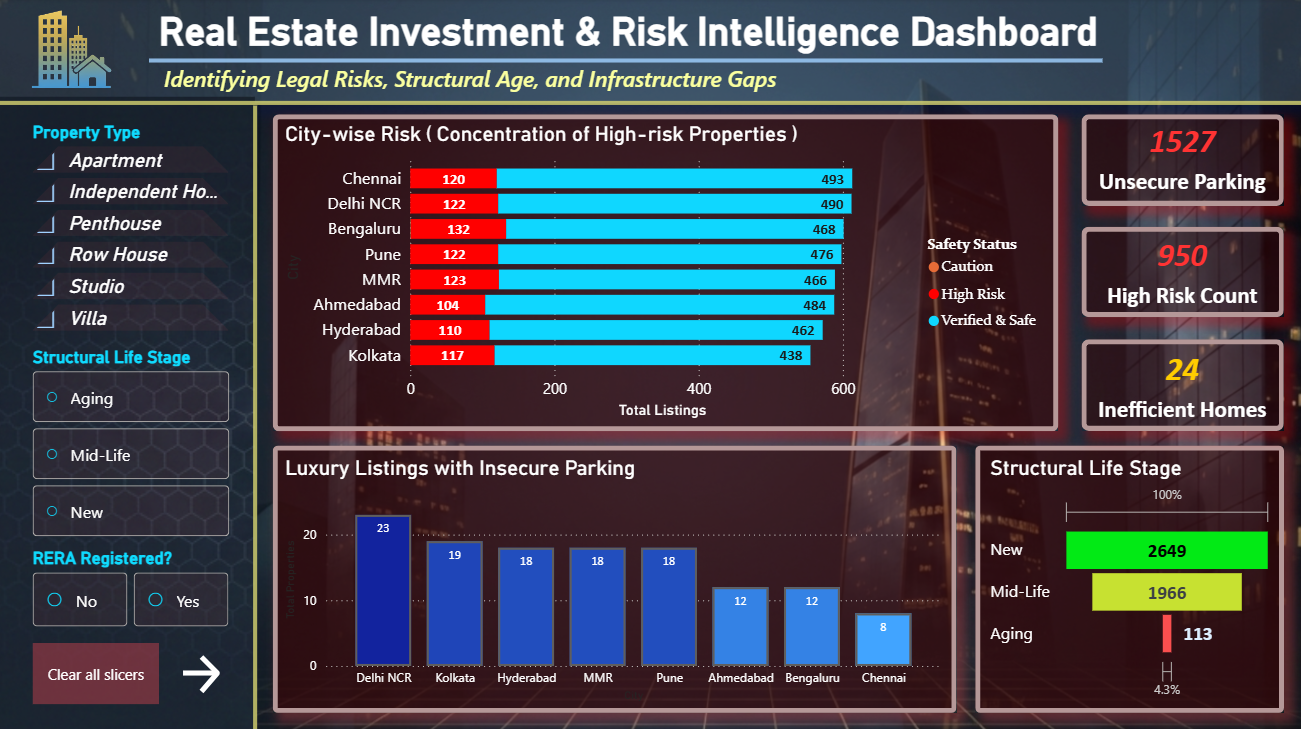

The page's visual inventory and layout, read from the dashboard file:
{"tool":"powerbi","page":{"name":"Risk & Lifecycle","canvas":[1280,720],"ordinal":1},"visuals":[{"type":"shape","box":[0,0,1280,103.2],"z":0},{"type":"image","box":[13.5,9.8,115.3,81],"z":1000},{"type":"textbox","box":[152.5,5,1063,56],"z":2000},{"type":"shape","box":[1062.5,225,198.8,88.8],"z":3000},{"type":"image","box":[0,96.9,251.5,623.3],"z":4000},{"type":"shape","box":[236.9,105.4,29.2,615],"z":5000},{"type":"shape","box":[268.8,113.8,771.2,311.2],"z":6000},{"type":"actionButton","box":[33.1,633.1,123.9,60.1],"z":7000},{"type":"shape","box":[268.7,439.3,671.2,262.6],"z":8000},{"type":"columnChart","title":"Luxury Listings with Insecure Parking","fields":{"Category":["estate processed_property_data.city"],"Y":["CountNonNull(estate processed_property_data.listingid)"]},"box":[276.1,449.1,654,246.6],"z":9000},{"type":"shape","box":[958.3,439.3,303.1,262.6],"z":10000},{"type":"shape","box":[1062.5,113.8,198.8,90],"z":11000},{"type":"shape","box":[1062.5,335,198.8,90],"z":12000},{"type":"card","fields":{"Values":["CountNonNull(estate processed_property_data.listingid)"]},"box":[1072.5,330,178.8,95],"z":13000},{"type":"advancedSlicerVisual","fields":{"Values":["estate processed_property_data.structural_life_stage"]},"box":[28.2,342.3,203.7,192.6],"z":14000},{"type":"actionButton","box":[174.2,640.5,57.7,46.6],"z":15000},{"type":"shape","box":[0,96.8,1280,12.1],"z":16000},{"type":"textbox","box":[157.5,58.8,630,38.8],"z":17000},{"type":"shape","box":[147.2,55.2,936.2,12.3],"z":18000},{"type":"funnel","title":"Structural Life Stage","fields":{"Y":["CountNonNull(estate processed_property_data.listingid)"],"Category":["estate processed_property_data.structural_life_stage"]},"box":[967.5,448.8,287.5,245],"z":22000},{"type":"card","fields":{"Values":["CountNonNull(estate processed_property_data.listingid)"]},"box":[1072.5,218.8,178.8,93.8],"z":23000},{"type":"card","fields":{"Values":["CountNonNull(estate processed_property_data.listingid)"]},"box":[1072.5,106.2,178.8,93.8],"z":24000},{"type":"barChart","title":"City-wise Risk ( Concentration of High-risk Properties )","fields":{"Y":["CountNonNull(estate processed_property_data.listingid)"],"Category":["estate processed_property_data.city"],"Series":["estate processed_property_data.safety_ratings"]},"box":[276.2,121.2,756.2,296.2],"z":25000},{"type":"advancedSlicerVisual","fields":{"Values":["estate processed_property_data.isreraregistered"]},"box":[28.8,540,203.8,82.5],"z":26000},{"type":"listSlicer","fields":{"Values":["estate processed_property_data.propertytype"]},"box":[28.8,121.2,202.5,213.8],"z":27000}]}

Visuals, with their boxes in screenshot pixels (x1, y1, x2, y2), scaled from the page's 1280x720 canvas onto the 1301x729 screenshot:
shape: bbox(0, 0, 1300, 104)
image: bbox(14, 10, 131, 92)
textbox: bbox(155, 5, 1235, 62)
shape: bbox(1080, 228, 1282, 318)
image: bbox(0, 98, 256, 728)
shape: bbox(241, 107, 270, 728)
shape: bbox(273, 115, 1057, 430)
actionButton: bbox(34, 641, 160, 702)
shape: bbox(273, 445, 955, 711)
"Luxury Listings with Insecure Parking" columnChart: bbox(281, 455, 945, 704)
shape: bbox(974, 445, 1282, 711)
shape: bbox(1080, 115, 1282, 206)
shape: bbox(1080, 339, 1282, 430)
card - CountNonNull(estate processed_property_data.listingid): bbox(1090, 334, 1272, 430)
advancedSlicerVisual - estate processed_property_data.structural_life_stage: bbox(29, 347, 236, 542)
actionButton: bbox(177, 649, 236, 696)
shape: bbox(0, 98, 1300, 110)
textbox: bbox(160, 60, 800, 99)
shape: bbox(150, 56, 1101, 68)
"Structural Life Stage" funnel: bbox(983, 454, 1276, 702)
card - CountNonNull(estate processed_property_data.listingid): bbox(1090, 222, 1272, 317)
card - CountNonNull(estate processed_property_data.listingid): bbox(1090, 108, 1272, 202)
"City-wise Risk ( Concentration of High-risk Properties )" barChart: bbox(281, 123, 1049, 423)
advancedSlicerVisual - estate processed_property_data.isreraregistered: bbox(29, 547, 236, 630)
listSlicer - estate processed_property_data.propertytype: bbox(29, 123, 235, 339)
